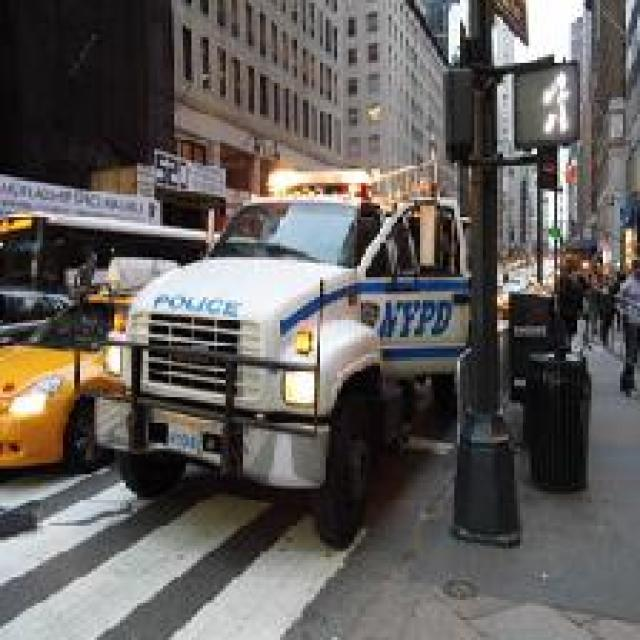emergency: (88, 186, 470, 552)
